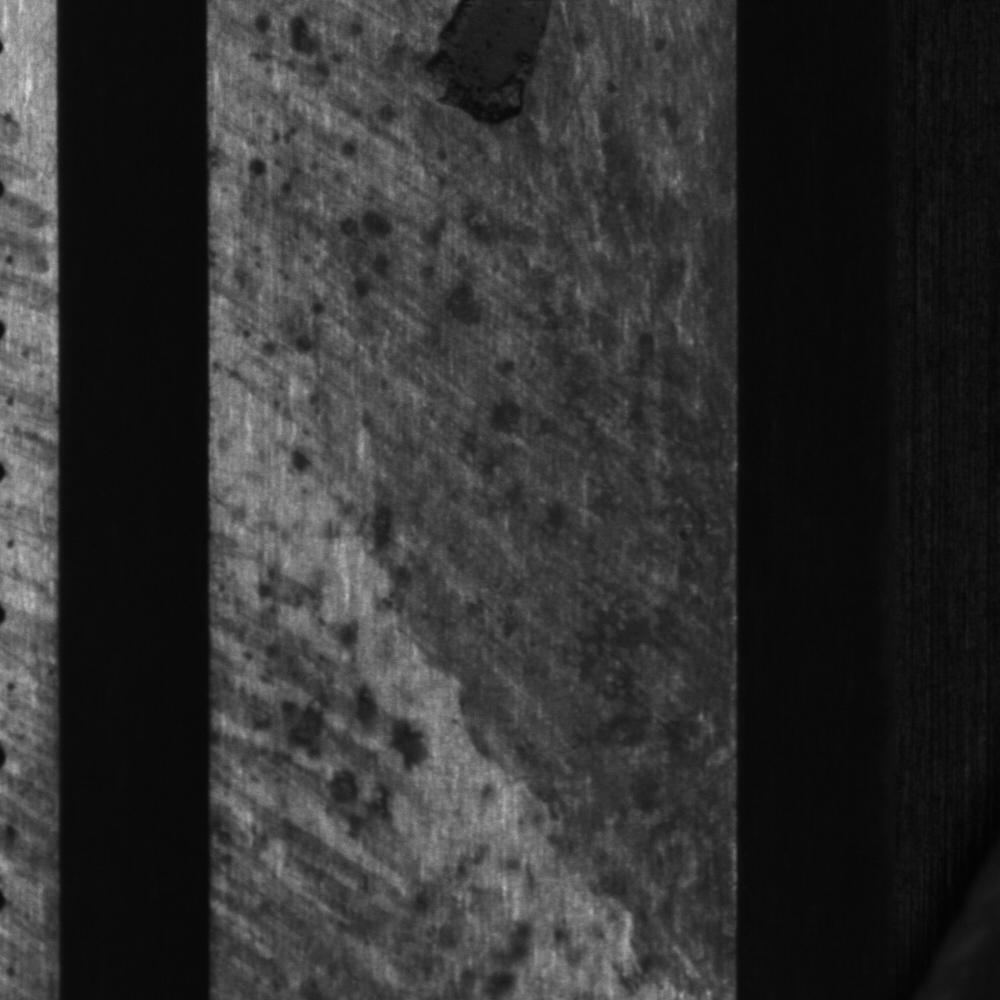Discolor: (240, 161, 737, 531), (368, 542, 735, 987), (211, 541, 360, 995), (403, 2, 579, 153), (229, 2, 392, 154)
